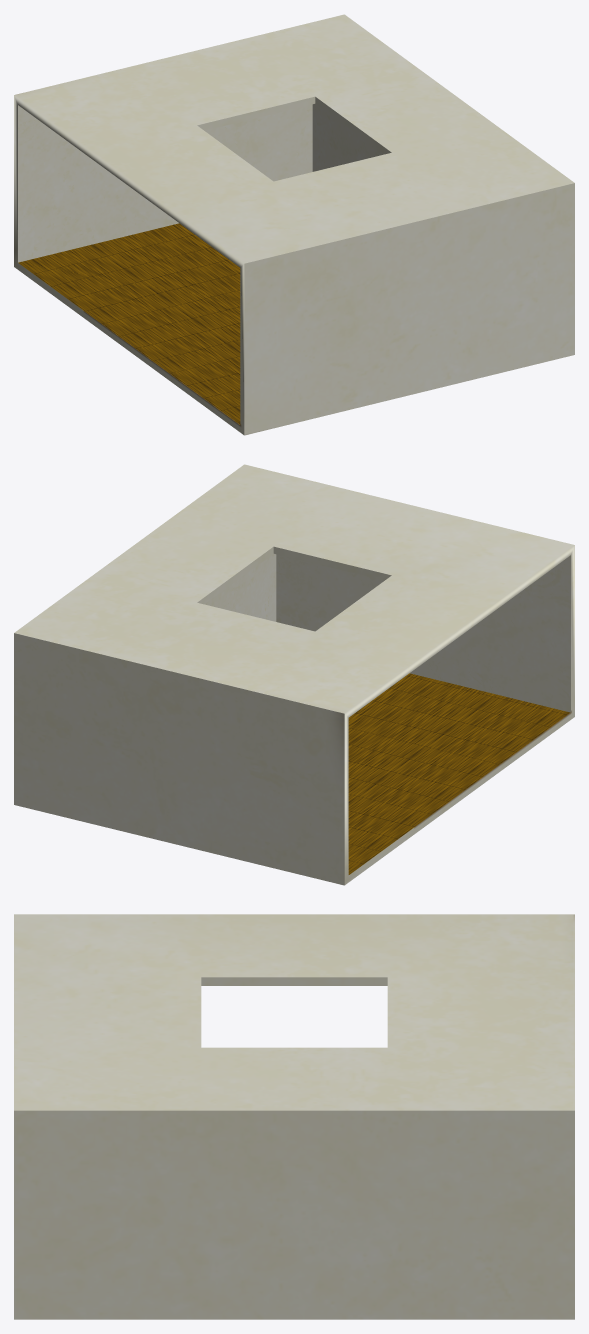
File: Gem_Room.fbx
3 renders of one model, top to bottom at view 1: azimuth 30°, elevation 25°; view 2: azimuth 150°, elevation 25°; view 3: azimuth 270°, elevation 25°, orthographic. The views are drawn at different scales.
Parts seen in each view (by area): view 1: Idol_Room; view 2: Idol_Room; view 3: Idol_Room.
Part boxes in pixels (<box>): Idol_Room: <box>14,14,574,435</box>; Idol_Room: <box>14,464,574,885</box>; Idol_Room: <box>14,914,574,1319</box>.
Bounding box in the file's own units: 3645 × 1811 × 4400.
1 material, 1 textured.
